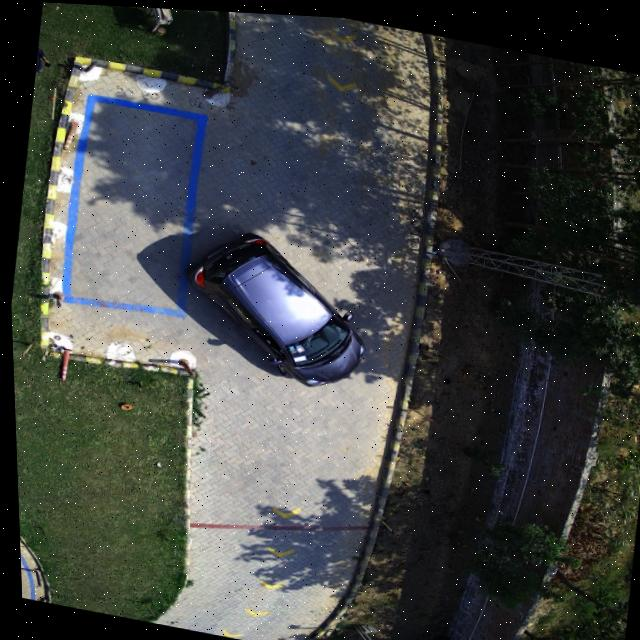car: (184, 230, 362, 383)
